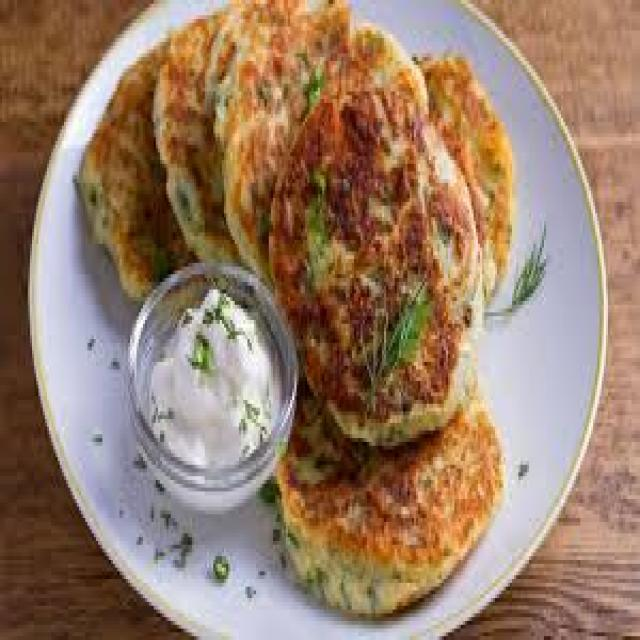organic waste: (263, 88, 482, 430), (276, 351, 502, 614), (213, 19, 424, 278), (149, 4, 348, 255), (75, 31, 196, 290), (412, 46, 512, 304), (202, 0, 346, 141), (504, 221, 546, 309)
